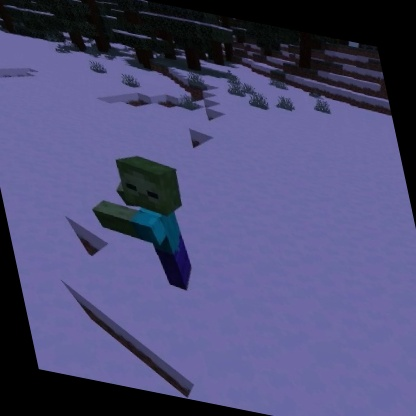zombie: (73, 140, 208, 297)
